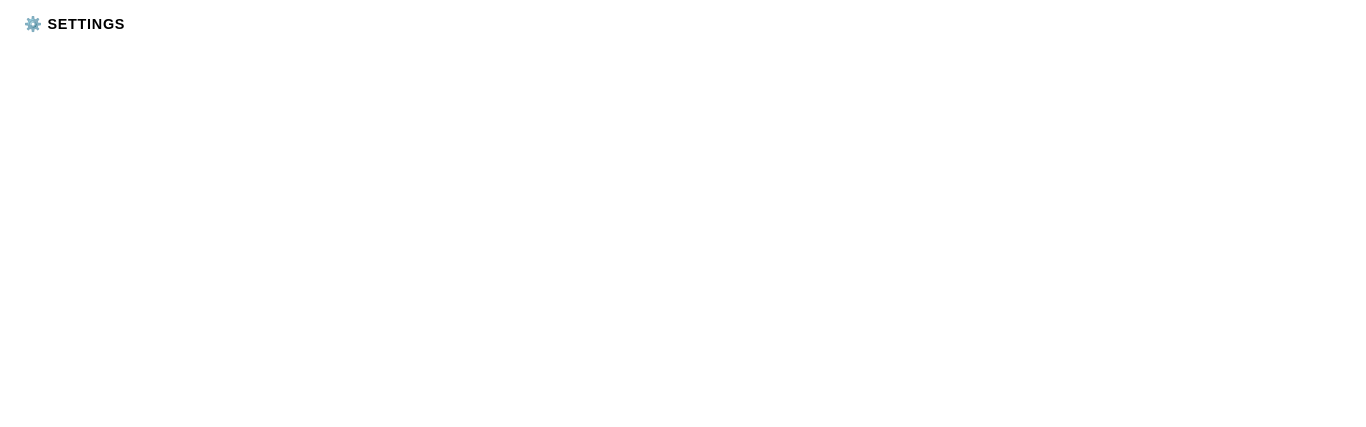
SettingsPanel › toggles theme preference
Click the button "⚙️ Settings".
click(75, 24)  # box [8, 8, 141, 41]
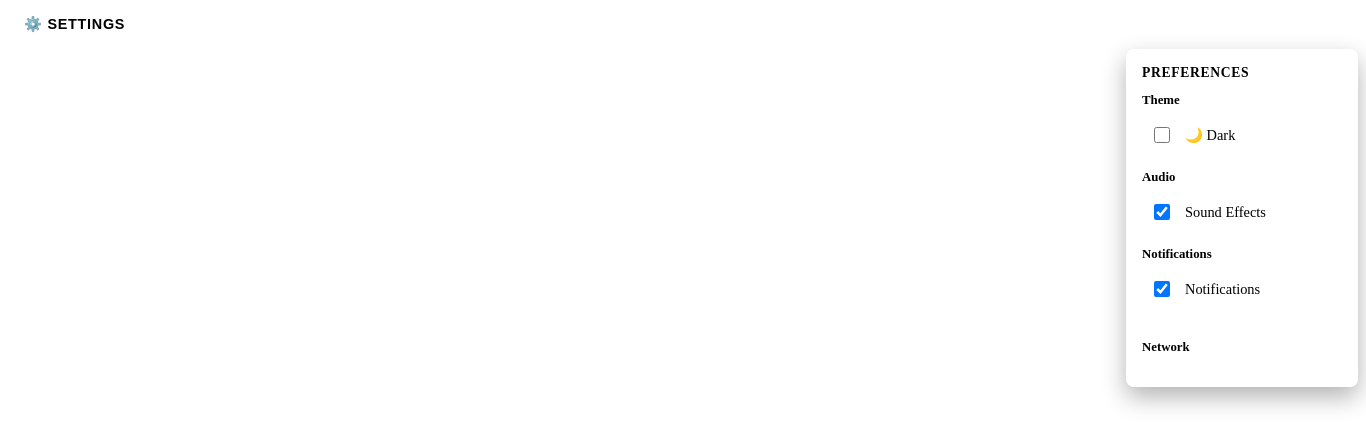
Expected: the checkbox named "light mode" is shown
Click the checkbox named "light mode".
click(1162, 135)  # box [1154, 127, 1170, 143]
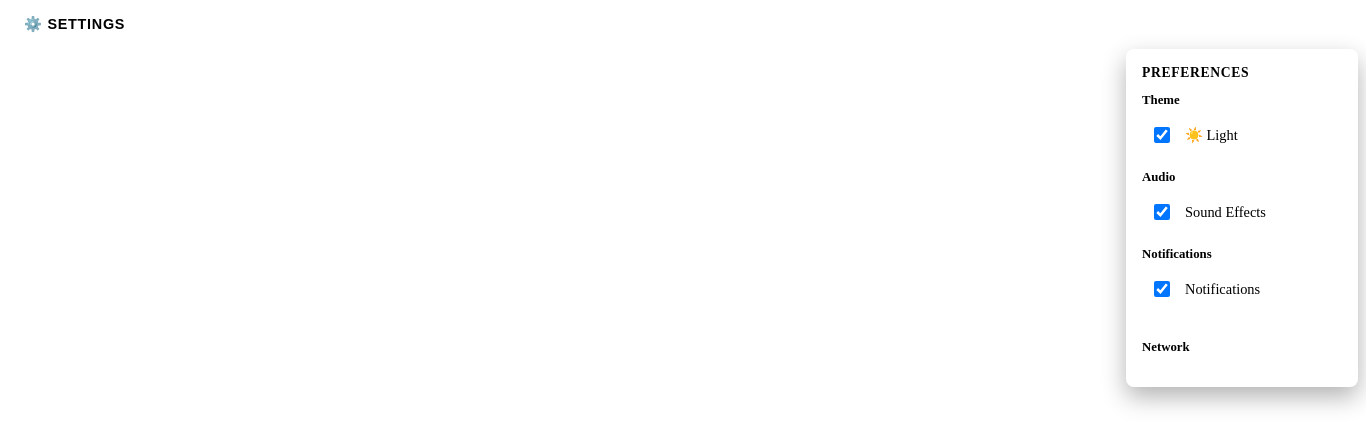
Expected: the checkbox named "light mode" is checked, [1154, 127, 1170, 143]
